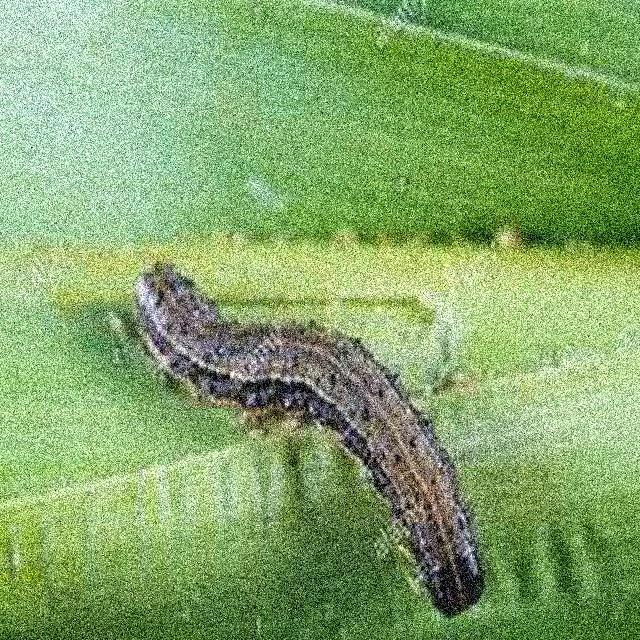worm: (131, 259, 486, 619)
